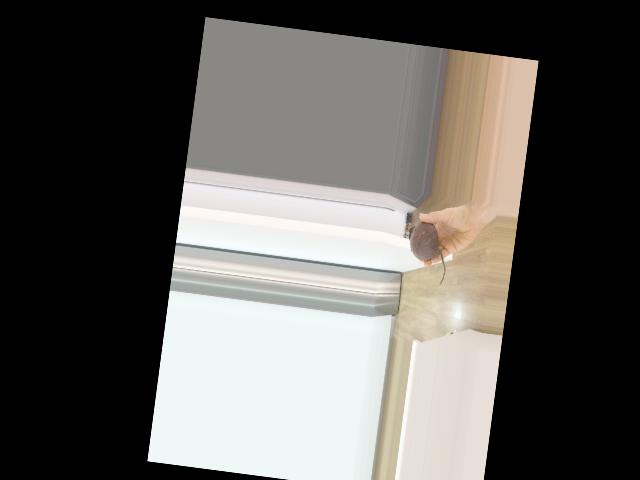beet: (403, 220, 451, 285)
